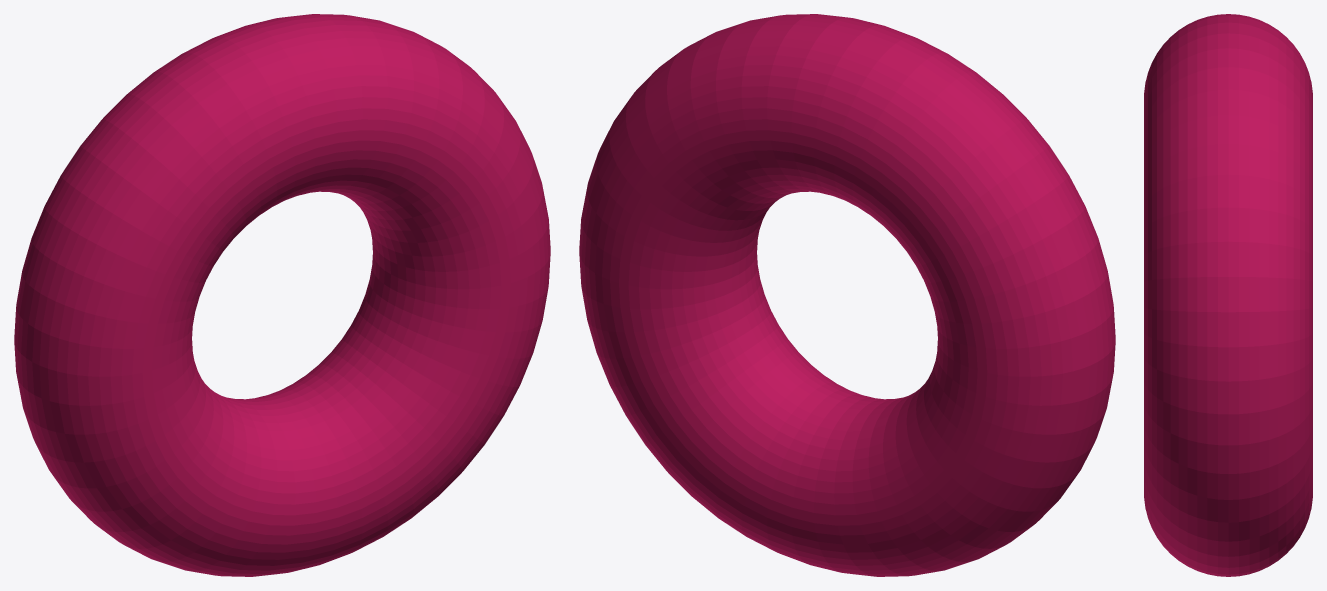
The picture shows the model from 3 angles, left to right: view 1: azimuth 30°, elevation 25°; view 2: azimuth 150°, elevation 25°; view 3: azimuth 270°, elevation 25°; orthographic projection. The views are drawn at different scales.
Parts seen in each view (by area): view 1: world; view 2: world; view 3: world.
Part boxes in pixels (<box>): world: <box>14,14,550,576</box>; world: <box>579,14,1115,576</box>; world: <box>1144,14,1312,576</box>.
Bounding box in the file's own units: 32.4 × 32.34 × 9.71.
